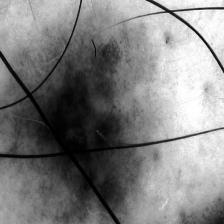Benign Marking or Mole: (2, 41, 164, 213)
